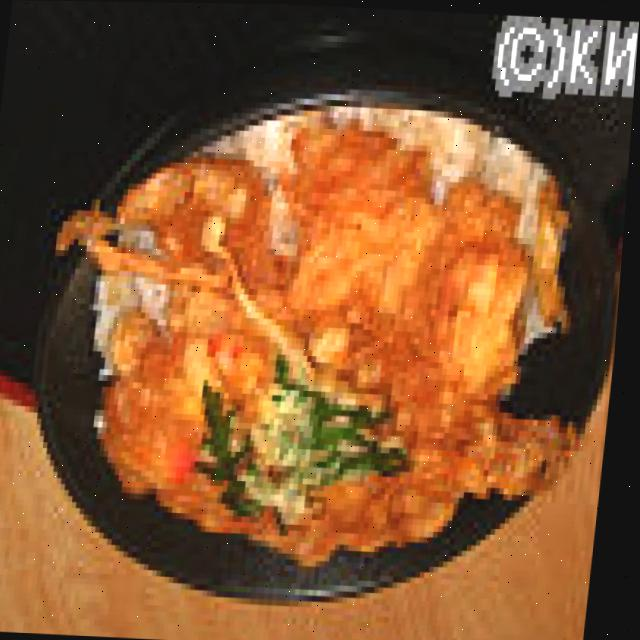熟制海鲜: (7, 90, 635, 612)
